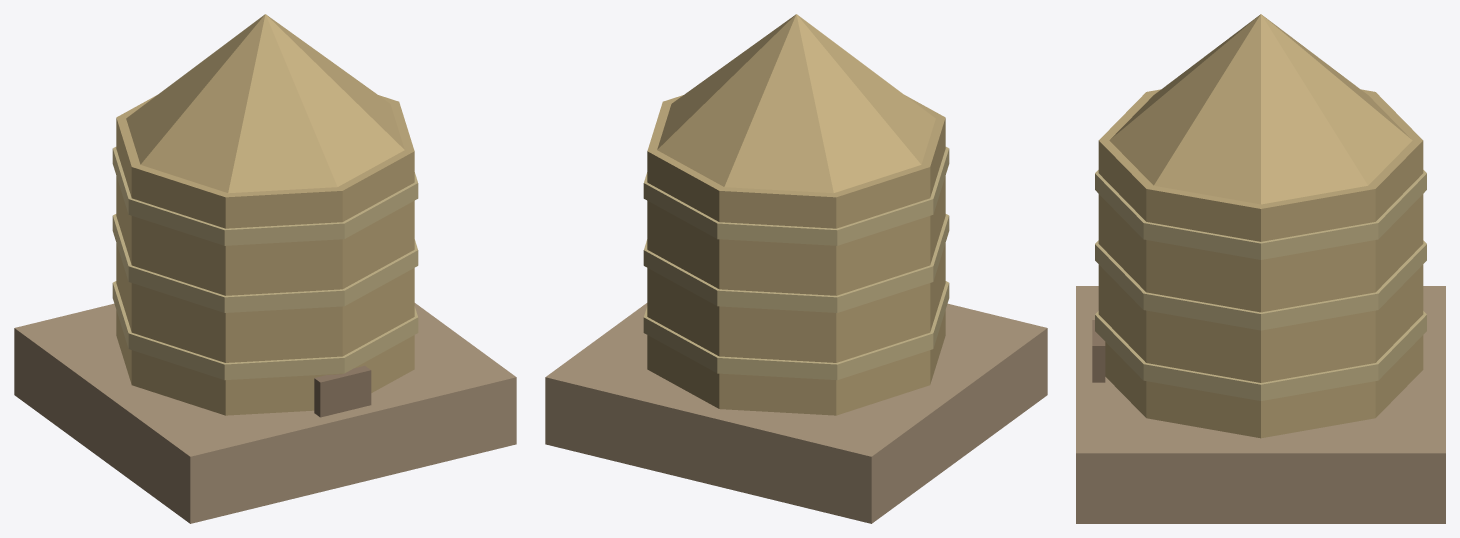
File: beehive.glb
The picture shows the model from 3 angles, left to right: view 1: azimuth 30°, elevation 25°; view 2: azimuth 150°, elevation 25°; view 3: azimuth 270°, elevation 25°; orthographic projection. The views are drawn at different scales.
Parts seen in each view (by area): view 1: beehive; view 2: beehive; view 3: beehive.
Part boxes in pixels (<box>): beehive: <box>14,14,516,523</box>; beehive: <box>545,14,1047,523</box>; beehive: <box>1076,14,1445,523</box>.
Size of the model in its own units: 0.2033 by 0.2417 by 0.19.
